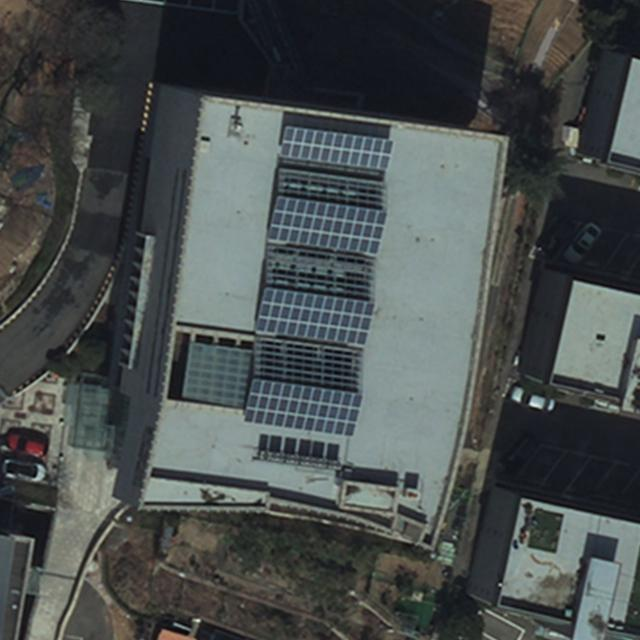panel: (265, 189, 389, 258), (252, 283, 377, 350), (240, 375, 365, 440), (278, 118, 396, 178)
